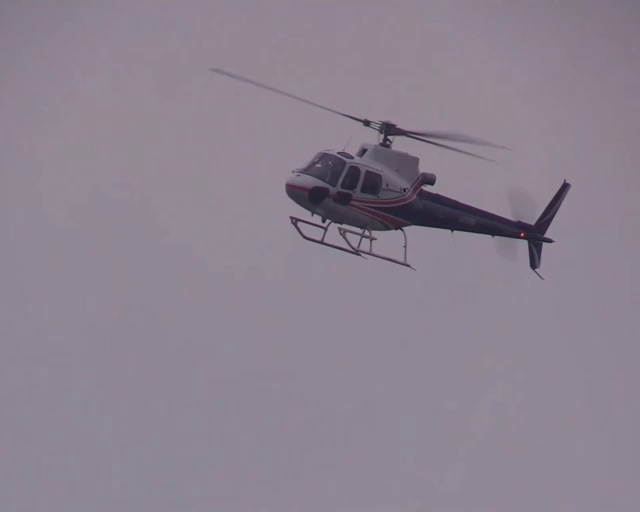HELICOPTER: (209, 63, 573, 274)
